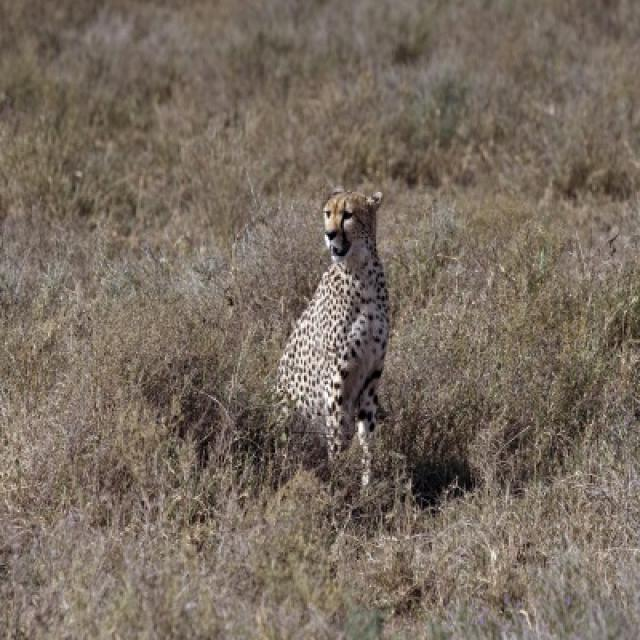Cheetah: (274, 189, 390, 488)
